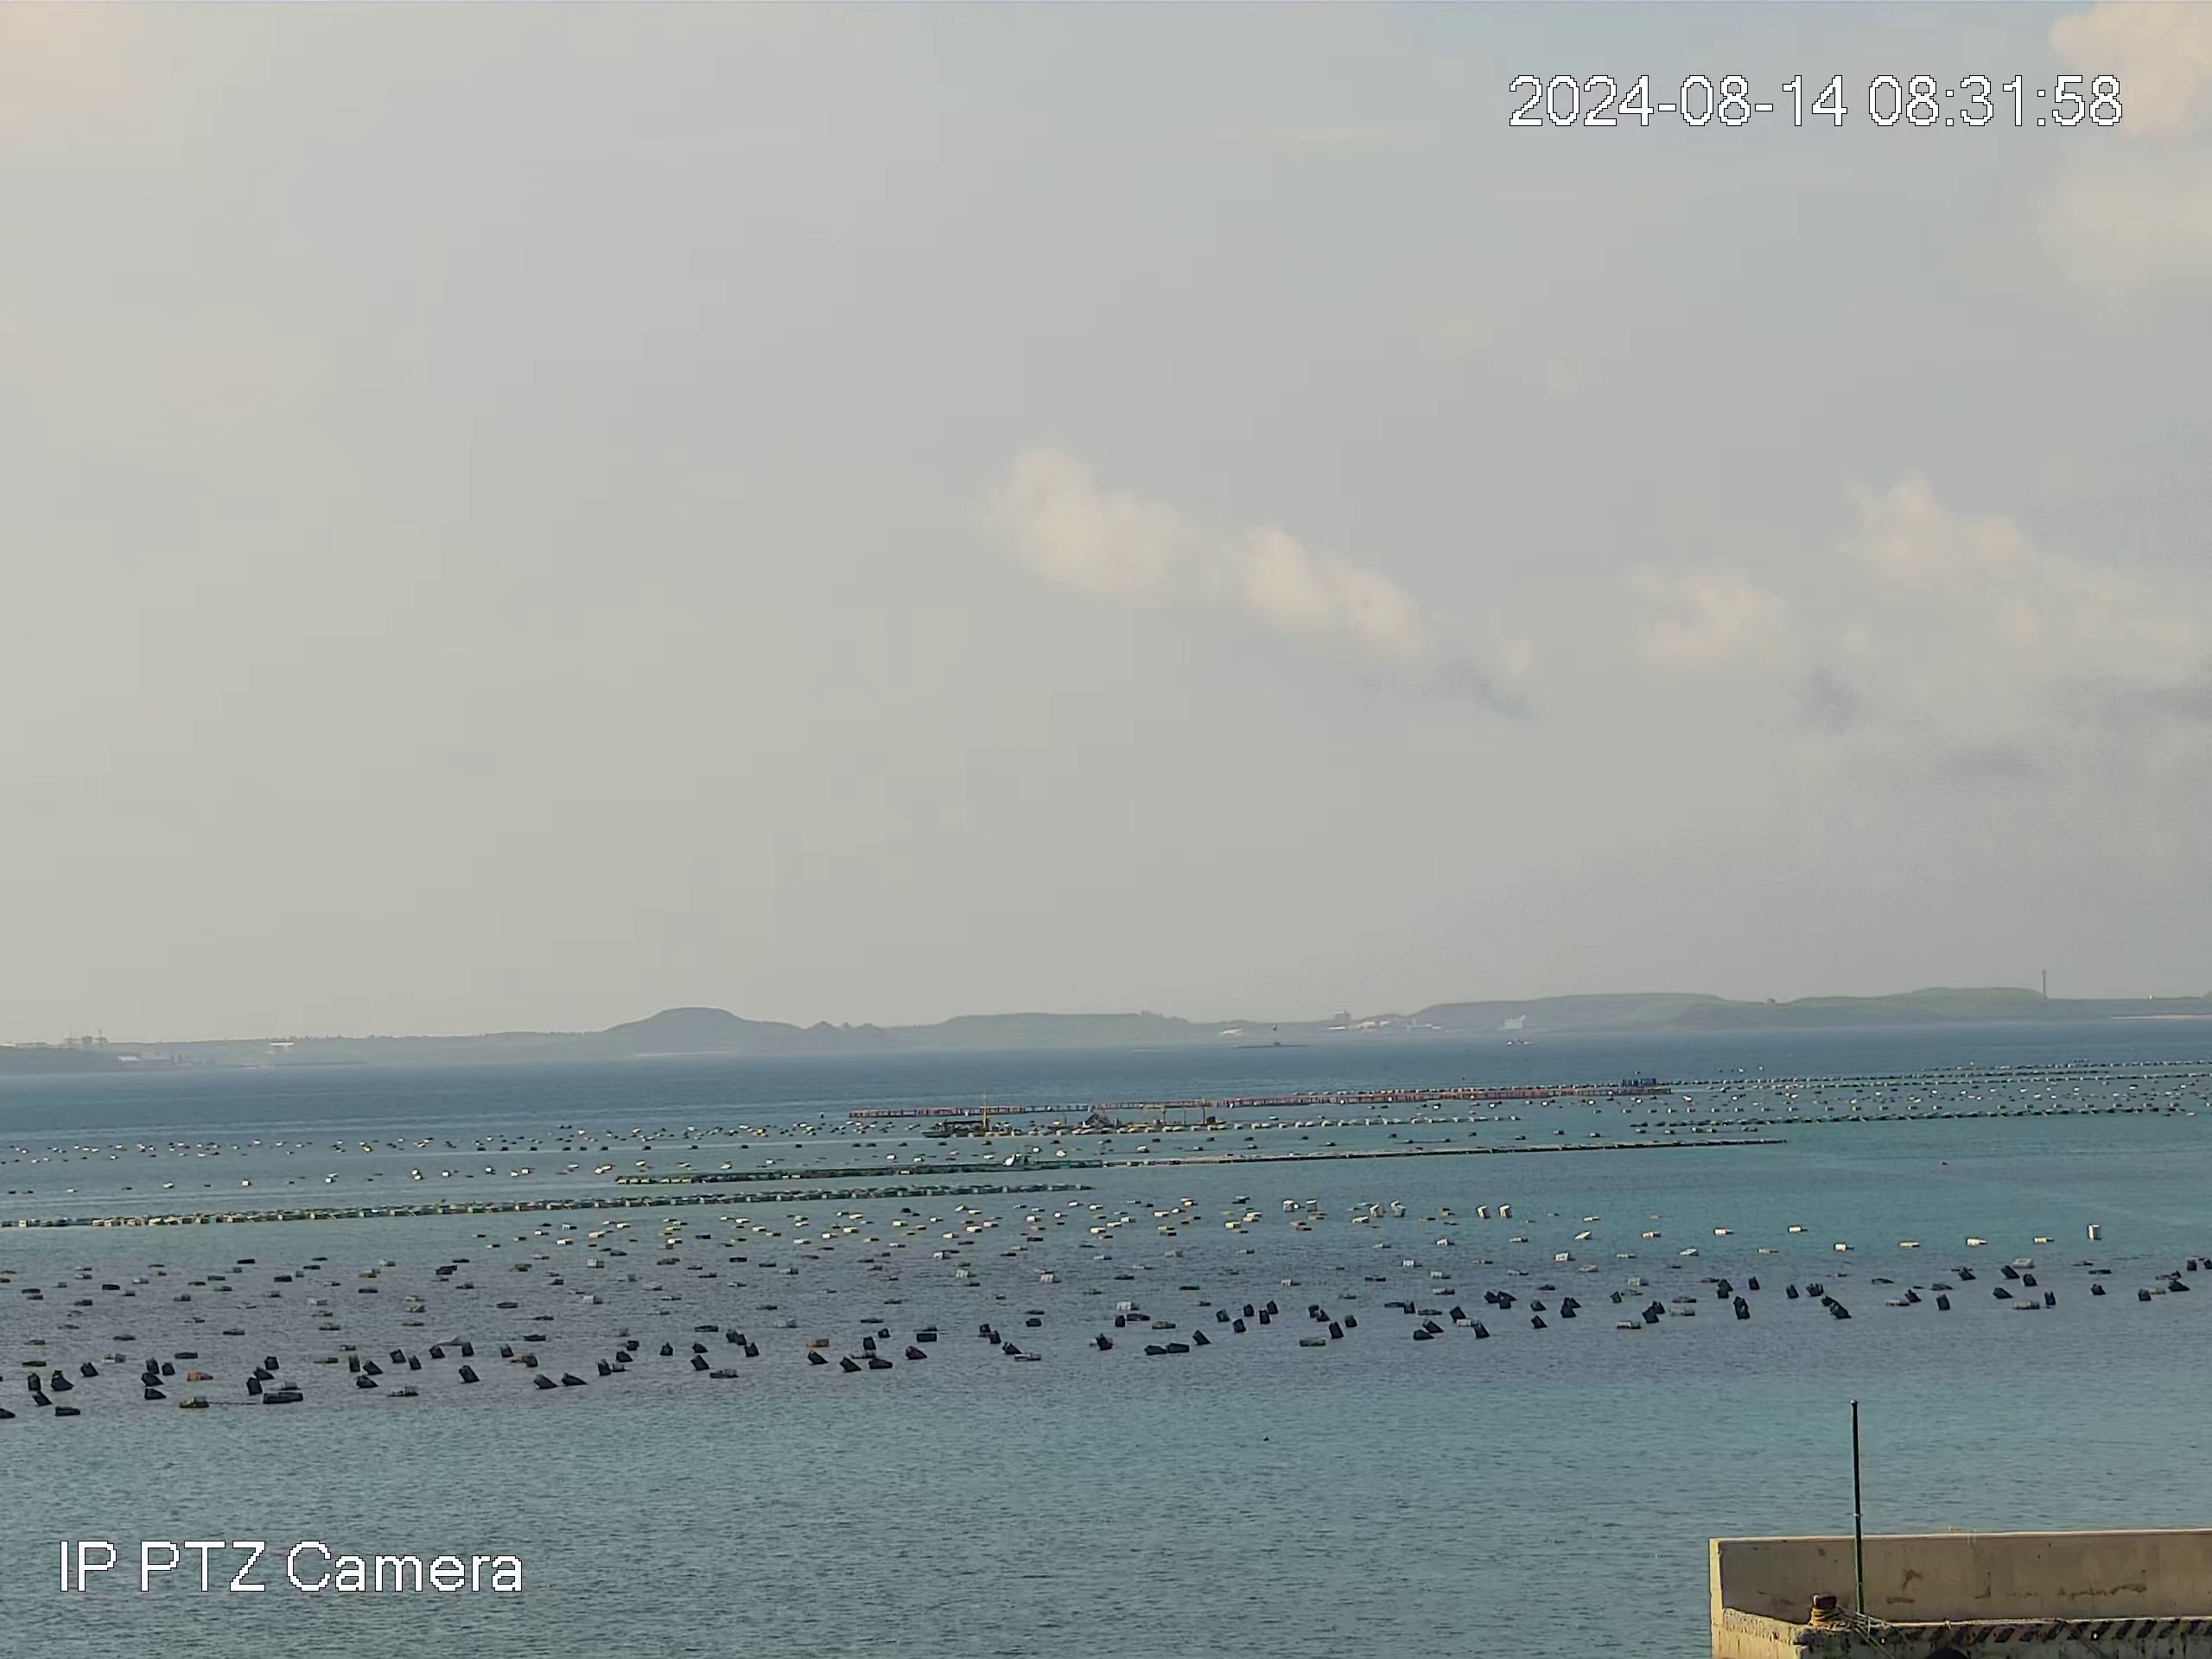boat: (920, 1115, 995, 1141)
